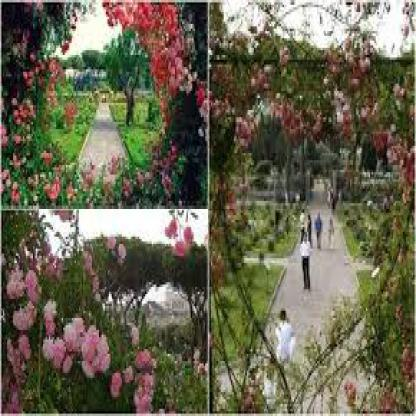Rose-Mawar: (4, 262, 160, 415), (221, 30, 396, 137), (38, 147, 189, 207), (117, 1, 195, 114), (4, 95, 28, 200)
